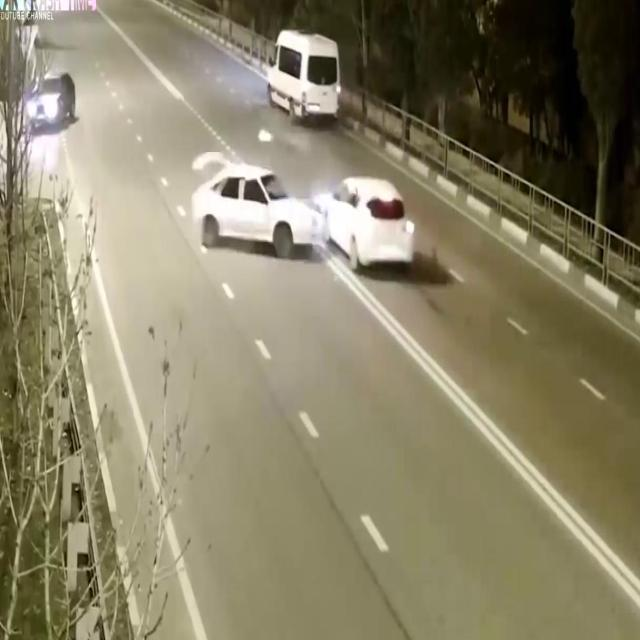accident: (176, 136, 421, 288)
